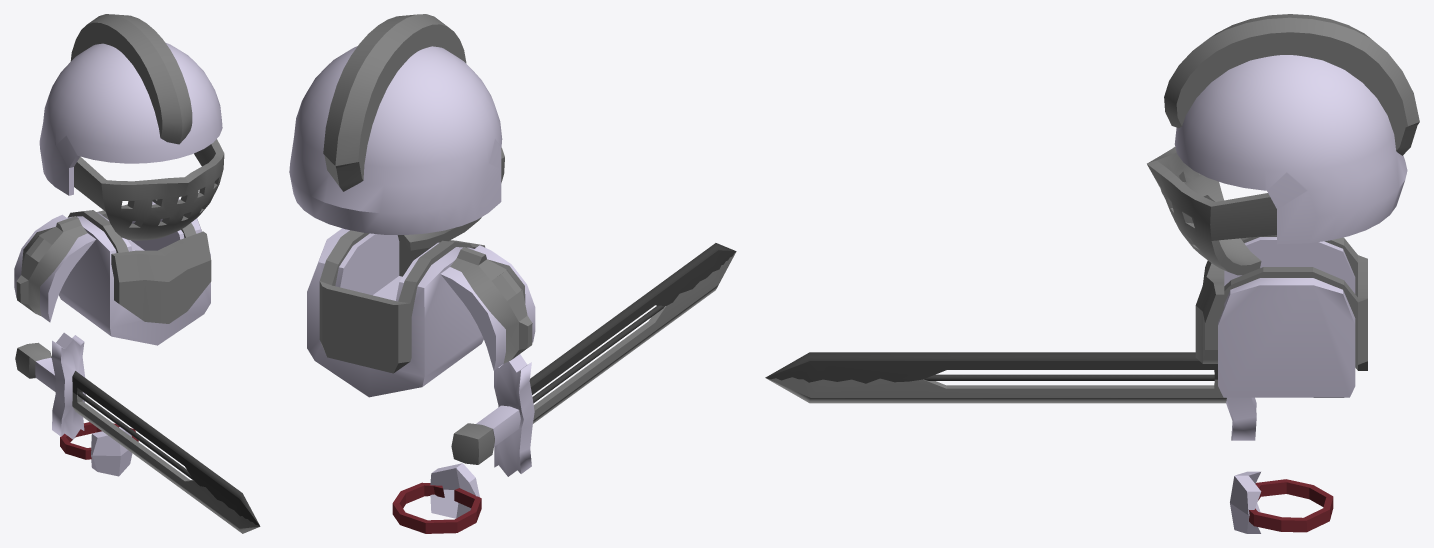
Rendered from Armor3.fbx.
3 renders of one model, left to right at view 1: azimuth 30°, elevation 25°; view 2: azimuth 150°, elevation 25°; view 3: azimuth 270°, elevation 25°, orthographic. The views are drawn at different scales.
Parts seen in each view (by area): view 1: Sphere, Cube, Cube.002, Sphere.001, Cube.001, Vert; view 2: Sphere, Cube, Cube.002, Cube.001, Vert, Sphere.001; view 3: Sphere, Cube, Cube.002, Sphere.001, Vert.
Boxes of the visible parts, box(x1,y1,x2,y2) form: Sphere: box(39, 14, 222, 195); Cube: box(59, 199, 211, 345); Cube.002: box(15, 332, 260, 533); Sphere.001: box(74, 139, 224, 240); Cube.001: box(14, 214, 95, 322); Vert: box(60, 422, 138, 476); Sphere: box(289, 14, 502, 234); Cube: box(307, 228, 485, 397); Cube.002: box(451, 243, 736, 476); Cube.001: box(440, 245, 535, 370); Vert: box(392, 463, 481, 533); Sphere.001: box(398, 147, 504, 250); Sphere: box(1164, 14, 1419, 244); Cube: box(1195, 235, 1367, 397); Cube.002: box(765, 352, 1343, 440); Sphere.001: box(1147, 147, 1276, 275); Vert: box(1230, 471, 1333, 533).
Size of the model in its own units: 72.64 by 155 by 172.
